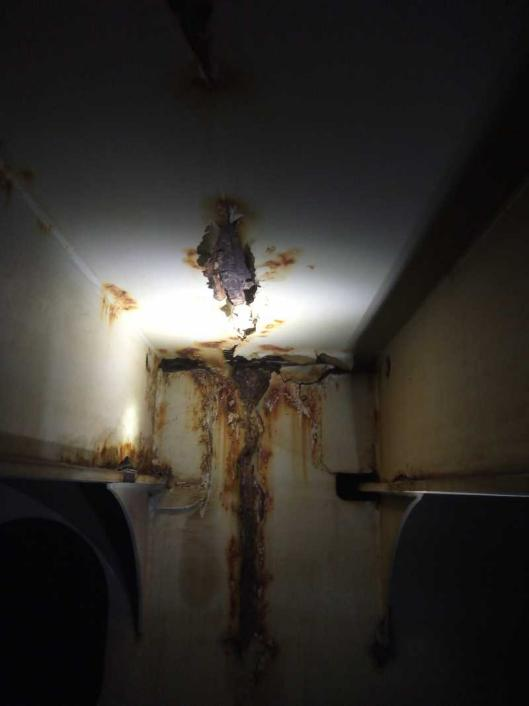corrosion: (156, 353, 341, 499), (215, 358, 280, 690), (181, 199, 313, 314), (279, 380, 336, 476), (184, 372, 224, 487), (86, 428, 163, 485), (82, 275, 147, 331), (225, 319, 291, 347), (1, 156, 38, 198)
